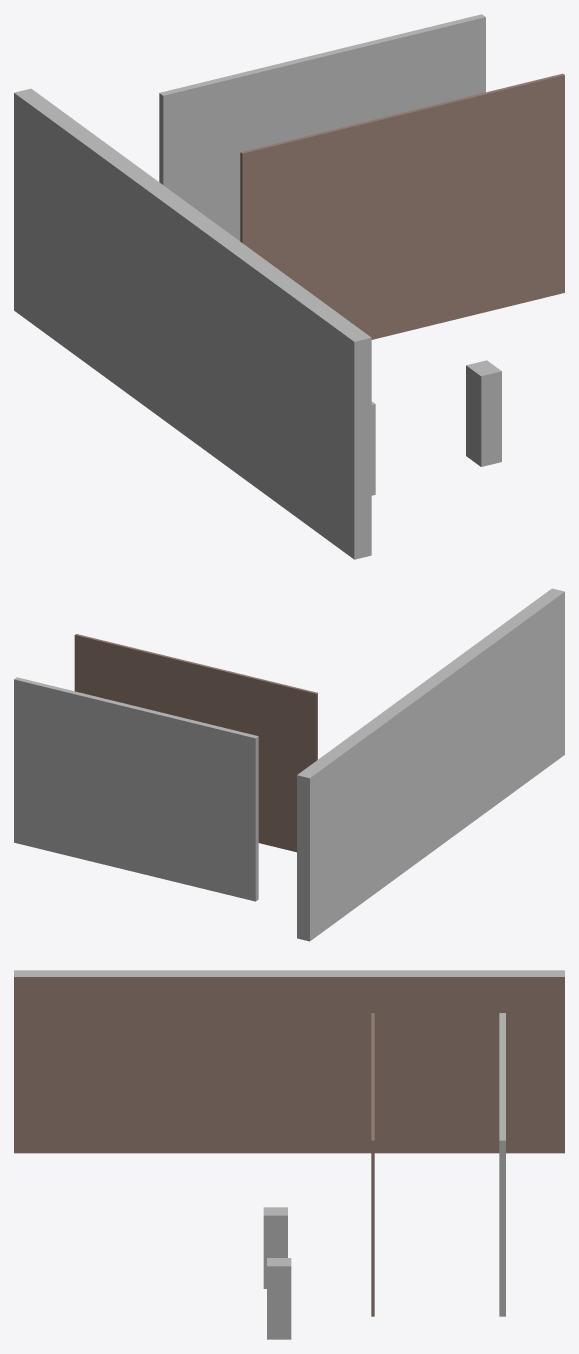
The picture shows the model from 3 angles, top to bottom: view 1: azimuth 30°, elevation 25°; view 2: azimuth 150°, elevation 25°; view 3: azimuth 270°, elevation 25°; orthographic projection. The views are drawn at different scales.
Parts seen in each view (by area): view 1: mesh; view 2: mesh; view 3: mesh.
Part boxes in pixels (bbox=[...]): mesh: bbox=[14, 14, 564, 559]; mesh: bbox=[14, 588, 564, 941]; mesh: bbox=[14, 970, 564, 1339].
Size of the model in its own units: 40.8 by 27.89 by 55.77.
